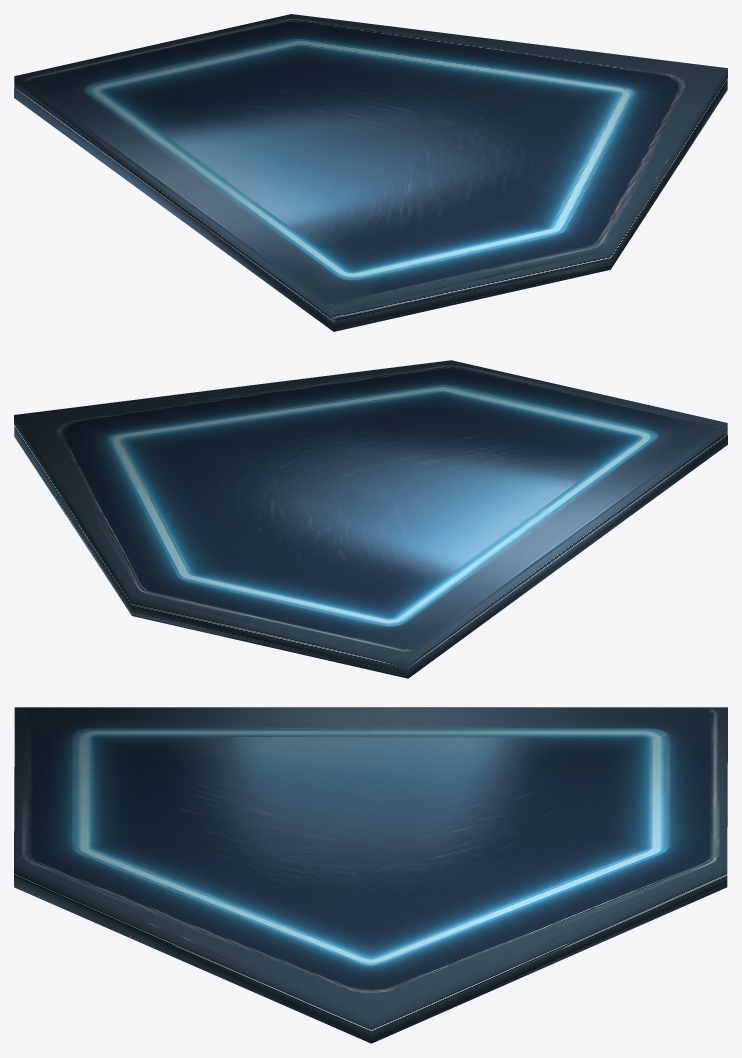
The model's file is HomeBase.fbx.
3 views of the same model, one above another, from view 1: azimuth 30°, elevation 25°; view 2: azimuth 150°, elevation 25°; view 3: azimuth 270°, elevation 25° (orthographic). The views are drawn at different scales.
Visible parts, largest first — view 1: 立方体; view 2: 立方体; view 3: 立方体.
Part boxes in pixels (x1,y1,x2,y2): 立方体: (14, 14, 727, 331); 立方体: (14, 360, 727, 678); 立方体: (14, 707, 727, 1043).
Bounding box in the file's own units: 588 × 32.18 × 588.
Materials: 1 (1 with a texture image).
